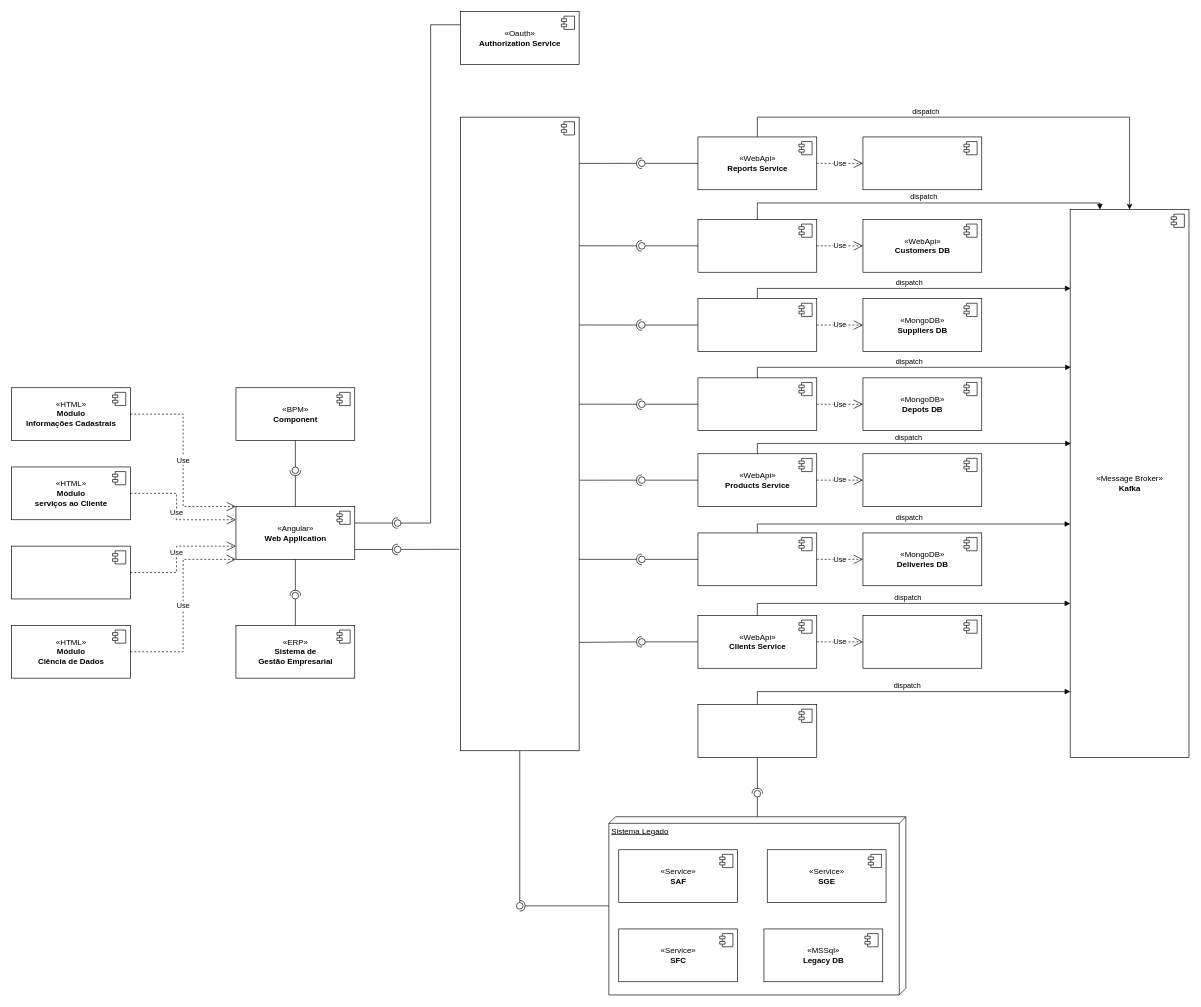
This 1201x1007 diagram has some shape labels left out. The centre of each missing label's shape, as x and y in pixels:
«API Gateway» Gateway REST API: (x=519, y=433)
«HTML» Módulo Gestão e Estratégia: (x=70, y=572)
«MongoDB» Clients DB: (x=922, y=641)
«MongoDB» Products DB: (x=922, y=480)
«WebApi» Customers Service: (x=757, y=245)
«WebApi» Deliveries Service: (x=757, y=559)
«WebApi» Depots Service: (x=757, y=404)
«WebApi» Integration Service: (x=757, y=730)
«WebApi» Reports DB: (x=922, y=163)
«WebApi» Suppliers Service: (x=757, y=324)
